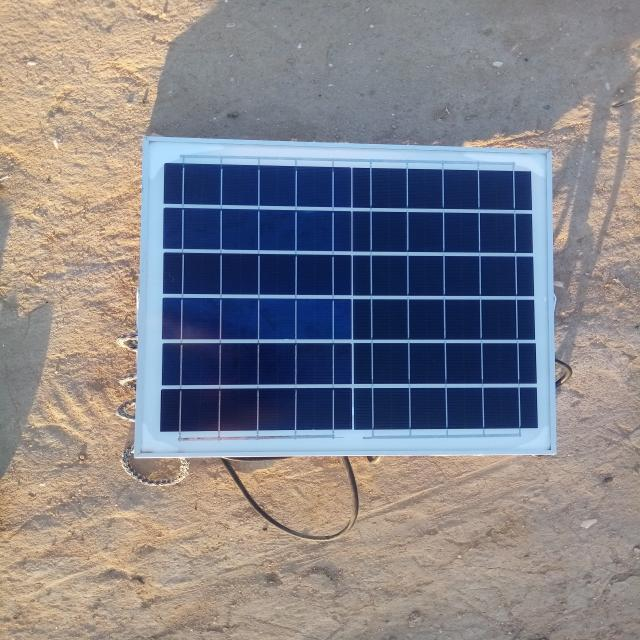Normal Solar Panel: (135, 137, 557, 459)
